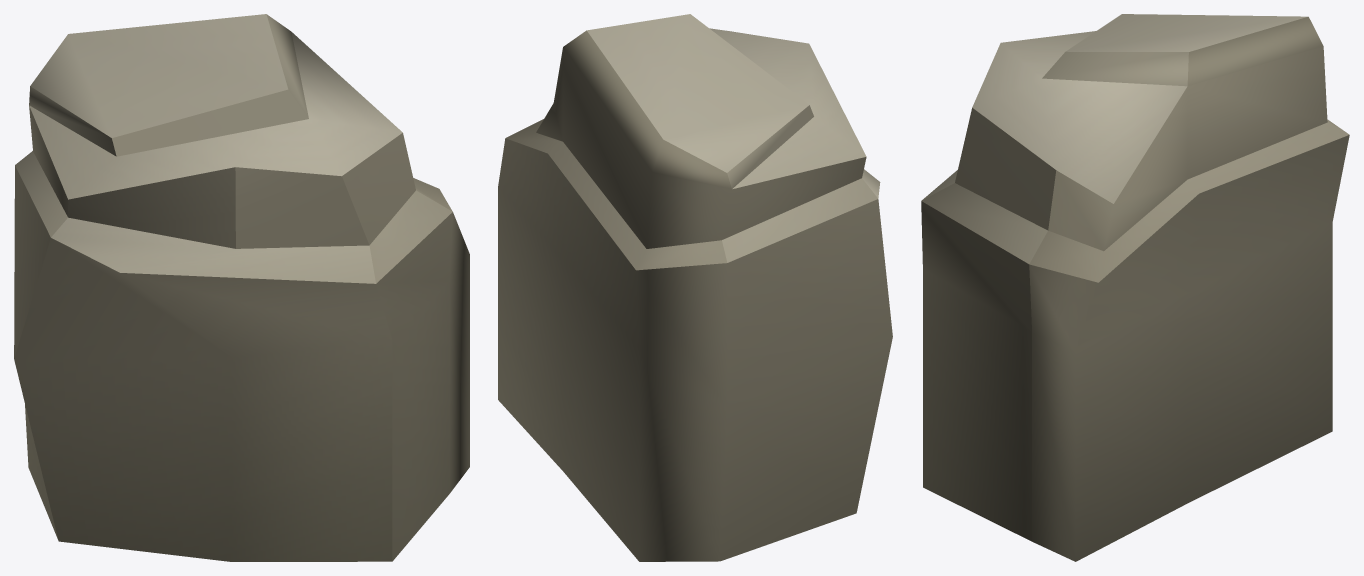
Rendered from mine_stone_02.fbx.
3 renders of one model, left to right at view 1: azimuth 30°, elevation 25°; view 2: azimuth 150°, elevation 25°; view 3: azimuth 270°, elevation 25°, orthographic.
Parts seen in each view (by area): view 1: mine_stone_02; view 2: mine_stone_02; view 3: mine_stone_02.
Part boxes in pixels (left/top/right/bottom): mine_stone_02: left=14, top=14, right=469, bottom=561; mine_stone_02: left=498, top=14, right=892, bottom=561; mine_stone_02: left=921, top=14, right=1349, bottom=561.
Size of the model in its own units: 449 by 451 by 398.
